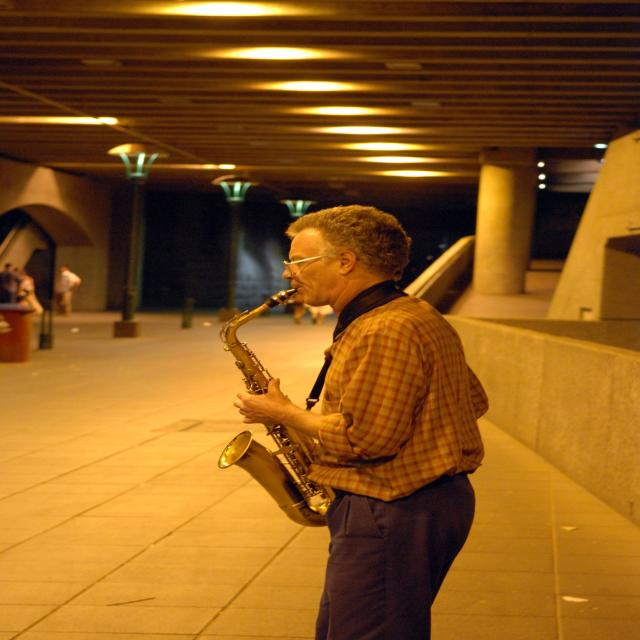saxophone: (209, 284, 347, 532)
